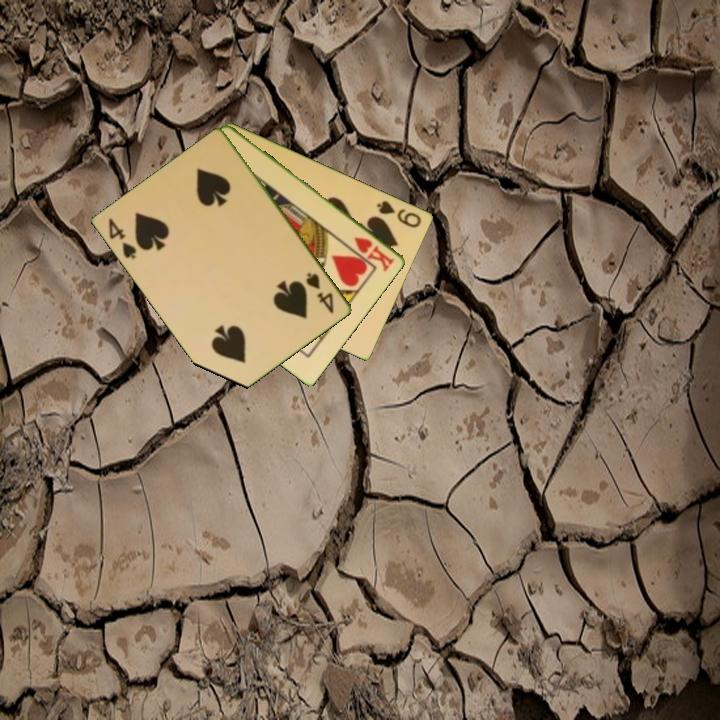4s: (105, 214, 140, 262), (303, 269, 337, 317)
9s: (373, 197, 425, 230)
Kh: (351, 233, 398, 274)
